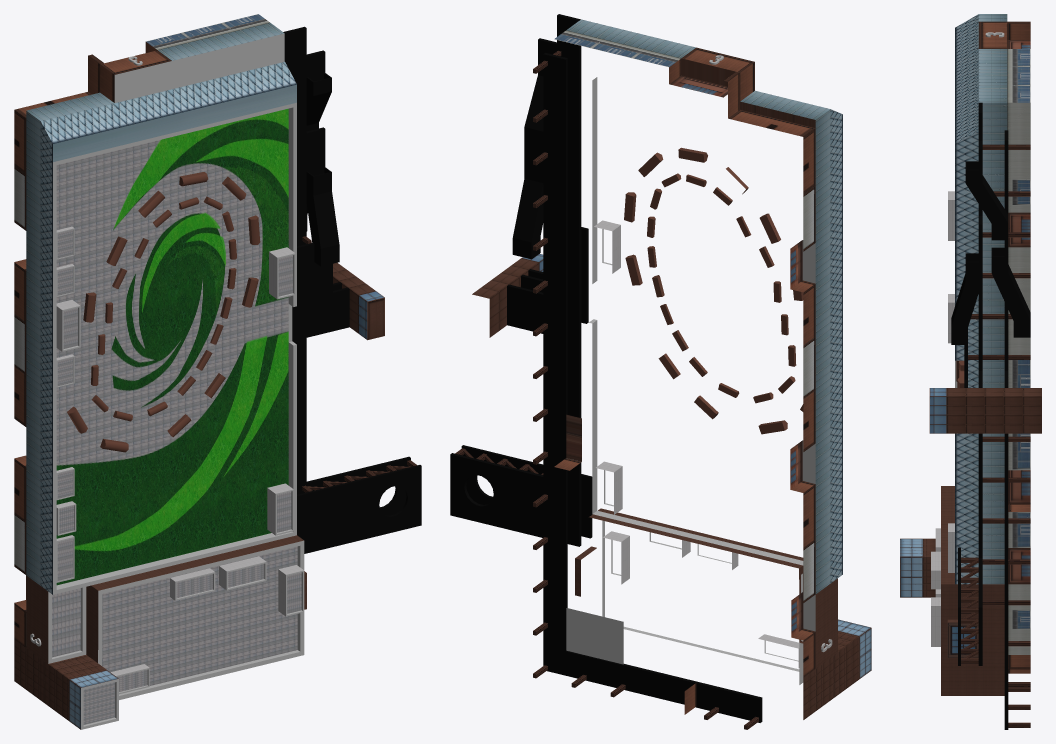
Rendered from shg.gltf.
The picture shows the model from 3 angles, left to right: view 1: azimuth 30°, elevation 25°; view 2: azimuth 150°, elevation 25°; view 3: azimuth 270°, elevation 25°; orthographic projection. The views are drawn at different scales.
Parts seen in each view (by area): view 1: Box001; view 2: Box001; view 3: Box001.
Boxes of the visible parts, left/top/right/bottom form: Box001: left=14, top=14, right=421, bottom=729; Box001: left=450, top=14, right=871, bottom=729; Box001: left=900, top=14, right=1041, bottom=729.
Bounding box in the file's own units: 100 × 164 × 33.97.
37 materials, 37 textured.
